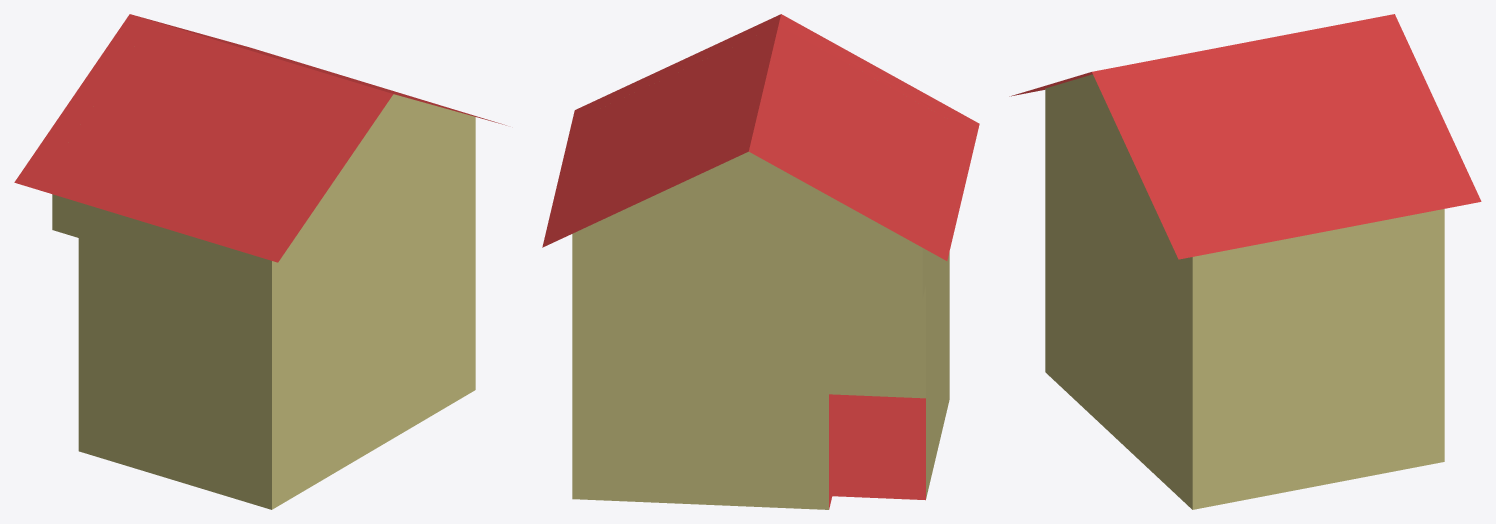
3 views of the same model, side by side, from view 1: azimuth 30°, elevation 25°; view 2: azimuth 150°, elevation 25°; view 3: azimuth 270°, elevation 25° (orthographic). The views are drawn at different scales.
Bounding box in the file's own units: 13.8 × 12.71 × 11.04.
